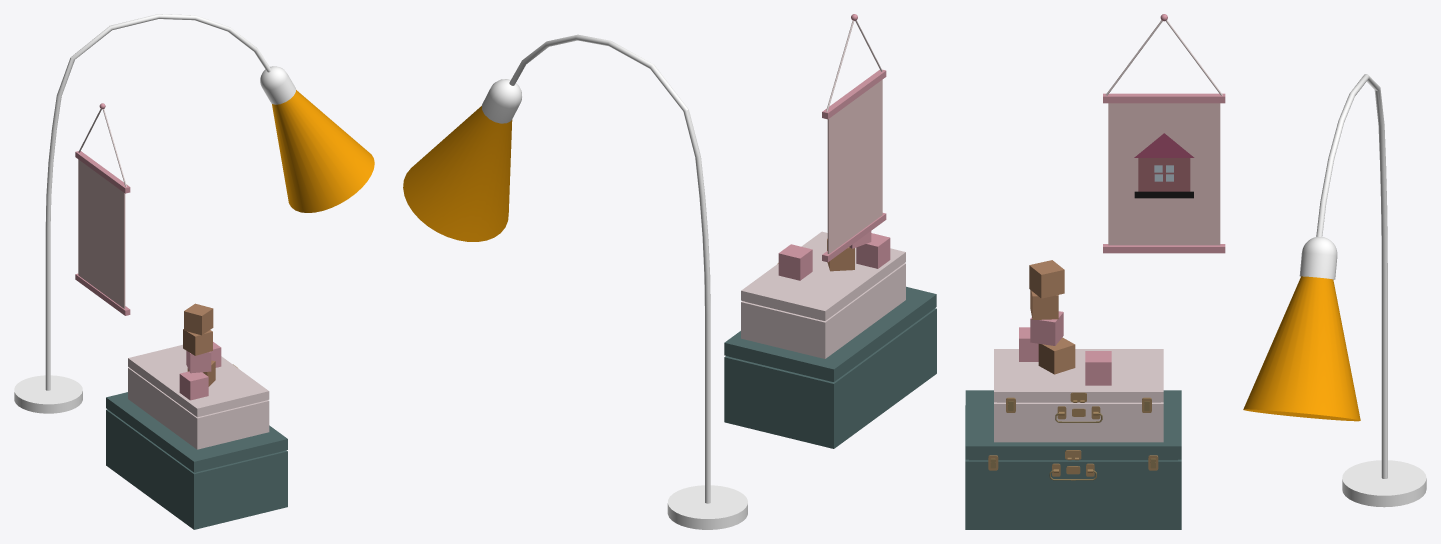
Rendered from Furn4_playzone_left_color3.fbx.
3 renders of one model, left to right at view 1: azimuth 30°, elevation 25°; view 2: azimuth 150°, elevation 25°; view 3: azimuth 270°, elevation 25°, orthographic. The views are drawn at different scales.
Visible parts, largest first — view 1: Цилиндр.065; view 2: Цилиндр.065; view 3: Цилиндр.065.
Boxes of the visible parts, box(x1,y1,x2,y2) form: Цилиндр.065: box(14, 14, 374, 529); Цилиндр.065: box(403, 14, 936, 529); Цилиндр.065: box(965, 14, 1426, 529).
Bounding box in the file's own units: 459 × 501 × 460.
